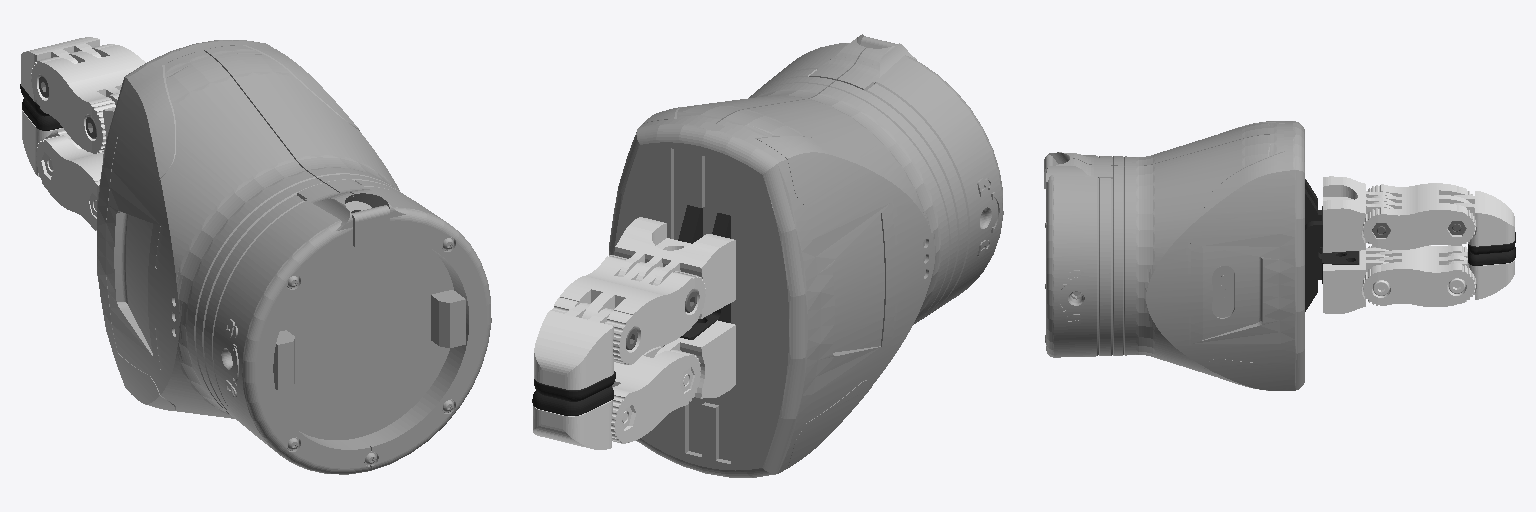
--- Facts derived from the render (not from the file) ---
The picture shows the robot from 3 angles, left to right: view 1: azimuth 30°, elevation 25°; view 2: azimuth 150°, elevation 25°; view 3: azimuth 270°, elevation 25°; orthographic projection.
Robot: ur3e_egh80 — 15 links, 14 joints (6 revolute, 2 prismatic, 6 fixed); root link world; default pose: every joint at zero.
Visible links, largest first — view 1: schunk_egh80_link, dedo_esq, dedo_dir; view 2: schunk_egh80_link, dedo_esq, dedo_dir; view 3: schunk_egh80_link, dedo_esq, dedo_dir.
Boxes of the visible links, <box> form: schunk_egh80_link: <box>97,40,491,474</box>; dedo_esq: <box>20,37,145,157</box>; dedo_dir: <box>22,98,103,230</box>; schunk_egh80_link: <box>609,34,1003,477</box>; dedo_esq: <box>534,217,735,401</box>; dedo_dir: <box>532,205,735,449</box>; schunk_egh80_link: <box>1044,121,1304,390</box>; dedo_esq: <box>1305,176,1515,311</box>; dedo_dir: <box>1305,179,1515,313</box>.
Size in the robot's own frame: 0.087 by 0.1994 by 0.1139 metres.
Meshes: 15 distinct files referenced, 12 mesh visuals loaded (7 Collada DAE); not drawn: 8 (reference not matched to a file when rendering).

URDF robot description (ur3e_egh80):
<?xml version="1.0" ?>
<!-- =================================================================================== -->
<!-- |    This document was autogenerated by xacro from ur3e_egh80.urdf.xacro          | -->
<!-- |    EDITING THIS FILE BY HAND IS NOT RECOMMENDED                                 | -->
<!-- =================================================================================== -->
<robot name="ur3e_egh80">
  <gazebo>
    <plugin filename="libgazebo_ros_control.so" name="ros_control">
      <!--robotNamespace>/</robotNamespace-->
      <!--robotSimType>gazebo_ros_control/DefaultRobotHWSim</robotSimType-->
    </plugin>
    <!--
    <plugin name="gazebo_ros_power_monitor_controller" filename="libgazebo_ros_power_monitor.so">
      <alwaysOn>true</alwaysOn>
      <updateRate>1.0</updateRate>
      <timeout>5</timeout>
      <powerStateTopic>power_state</powerStateTopic>
      <powerStateRate>10.0</powerStateRate>
      <fullChargeCapacity>87.78</fullChargeCapacity>     
      <dischargeRate>-474</dischargeRate>
      <chargeRate>525</chargeRate>
      <dischargeVoltage>15.52</dischargeVoltage>
      <chargeVoltage>16.41</chargeVoltage>
    </plugin>
-->
  </gazebo>
  <!-- measured from model "0.027"-->
  <!-- measured from model "0.027"-->
  <!--valores obtidos do Onshape, podem estar incorretos-->
  <!--xacro:property name="shoulder_height" value="0.094950" /-->
  <!--xacro:property name="upper_arm_length" value="0.243550" /-->
  <!--xacro:property name="forearm_length" value="0.2132" /-->
  <!--xacro:property name="wrist_1_length" value="0.01595" /-->
  <!--xacro:property name="wrist_2_length" value="0.08535" /-->
  <!--xacro:property name="wrist_3_length" value="0.0921" /-->
  <!--valores obtidos do Onshape, podem estar incorretos-->
  <!--<xacro:property name="shoulder_height" value="0.094950" /> -->
  <!--<xacro:property name="shoulder_offset" value="0.13585" /> -->
  <!-- shoulder_offset - elbow_offset + wrist_1_length = 0.10915 -->
  <!--<xacro:property name="upper_arm_length" value="0.42500" /> -->
  <!--<xacro:property name="elbow_offset" value="0.1197" /> -->
  <!-- CAD measured -->
  <!--<xacro:property name="forearm_length" value="0.39225" /> -->
  <!--<xacro:property name="wrist_1_length" value="0.093" />  -->
  <!-- CAD measured -->
  <!--<xacro:property name="wrist_2_length" value="0.09465" /> -->
  <!-- In CAD this distance is 0.930, but in the spec it is 0.09465 -->
  <!--<xacro:property name="wrist_3_length" value="0.0823" />-->
  <!-- manually measured -->
    <link name="world"/>
  <joint name="world_joint" type="fixed">
    <parent link="world"/>
    <child link="base_link"/>
    <origin rpy="0.0 0.0 0.0" xyz="0.0 0.0 0.0"/>
  </joint>
  <link name="base_link">
    <visual>
      <geometry>
        <mesh filename="package://robot_description/meshes/ur3e/visual/base.dae"/>
      </geometry>
      <material name="LightGrey">
        <color rgba="0.7 0.7 0.7 1.0"/>
      </material>
    </visual>
    <collision>
      <geometry>
        <mesh filename="package://robot_description/meshes/ur3e/collision/base.stl"/>
      </geometry>
    </collision>
    <inertial>
      <mass value="2.0"/>
      <origin rpy="0 0 0" xyz="0.0 0.0 0.0"/>
      <inertia ixx="0.0030531654454" ixy="0.0" ixz="0.0" iyy="0.0030531654454" iyz="0.0" izz="0.005625"/>
    </inertial>
  </link>
  <joint name="shoulder_pan_joint" type="revolute">
    <parent link="base_link"/>
    <child link="shoulder_link"/>
    <origin rpy="0.0 0.0 0.0" xyz="0.0 0.0 0.152"/>
    <axis xyz="0 0 1"/>
    <limit effort="56.0" lower="-3.141592653589793" upper="3.141592653589793" velocity="1.57079"/>
    <dynamics damping="0.0" friction="0.0"/>
  </joint>
  <link name="shoulder_link">
    <visual>
      <geometry>
        <mesh filename="package://robot_description/meshes/ur3e/visual/shoulder.dae"/>
      </geometry>
      <material name="LightGrey">
        <color rgba="0.7 0.7 0.7 1.0"/>
      </material>
    </visual>
    <collision>
      <geometry>
        <mesh filename="package://robot_description/meshes/ur3e/collision/shoulder.stl"/>
      </geometry>
    </collision>
    <inertial>
      <mass value="1.98"/>
      <origin rpy="0 0 0" xyz="0.0 0.0 0.0"/>
      <inertia ixx="0.006893010842794559" ixy="0.0" ixz="0.0" iyy="0.006893010842794559" iyz="0.0" izz="0.00556875"/>
    </inertial>
  </link>
  <joint name="shoulder_lift_joint" type="revolute">
    <parent link="shoulder_link"/>
    <child link="upper_arm_link"/>
    <origin rpy="0.0 1.5707963267948966 0.0" xyz="0.0 0.12 0.0"/>
    <!--<origin xyz="0.0 -0.06260 0.05690" rpy="${pi / 2.0} 0.0  0.0" />-->
    <axis xyz="0 1 0"/>
    <limit effort="56.0" lower="-3.141592653589793" upper="3.141592653589793" velocity="1.57079"/>
    <dynamics damping="0.0" friction="0.0"/>
  </joint>
  <link name="upper_arm_link">
    <visual>
      <geometry>
        <mesh filename="package://robot_description/meshes/ur3e/visual/upperarm.dae"/>
      </geometry>
      <material name="LightGrey">
        <color rgba="0.7 0.7 0.7 1.0"/>
      </material>
    </visual>
    <collision>
      <geometry>
        <mesh filename="package://robot_description/meshes/ur3e/collision/upperarm.stl"/>
      </geometry>
    </collision>
    <inertial>
      <mass value="3.4445"/>
      <origin rpy="0 0 0" xyz="0.0 0.0 0.28"/>
      <inertia ixx="0.022165039346584883" ixy="0.0" ixz="0.0" iyy="0.022165039346584883" iyz="0.0" izz="0.00968765625"/>
    </inertial>
  </link>
  <joint name="elbow_joint" type="revolute">
    <parent link="upper_arm_link"/>
    <child link="forearm_link"/>
    <origin rpy="0.0 0.0 0.0" xyz="0.0 -0.093 0.24355"/>
    <!--<origin xyz="0.0 0.243550 -0.010541" rpy="0.0 ${pi / 2.0} 0.0"/>-->
    <axis xyz="0 1 0"/>
    <limit effort="28.0" lower="-3.141592653589793" upper="3.141592653589793" velocity="1.57079"/>
    <dynamics damping="0.0" friction="0.0"/>
  </joint>
  <link name="forearm_link">
    <visual>
      <geometry>
        <mesh filename="package://robot_description/meshes/ur3e/visual/forearm.dae"/>
      </geometry>
      <material name="LightGrey">
        <color rgba="0.7 0.7 0.7 1.0"/>
      </material>
    </visual>
    <collision>
      <geometry>
        <mesh filename="package://robot_description/meshes/ur3e/collision/forearm.stl"/>
      </geometry>
    </collision>
    <inertial>
      <mass value="1.437"/>
      <origin rpy="0 0 0" xyz="0.0 0.0 0.25"/>
      <inertia ixx="0.0074639235044294035" ixy="0.0" ixz="0.0" iyy="0.0074639235044294035" iyz="0.0" izz="0.0040415625"/>
    </inertial>
  </link>
  <joint name="wrist_1_joint" type="revolute">
    <parent link="forearm_link"/>
    <child link="wrist_1_link"/>
    <origin rpy="0.0 1.5707963267948966 0.0" xyz="0.0 0.0 0.2132"/>
    <axis xyz="0 1 0"/>
    <limit effort="12.0" lower="-3.141592653589793" upper="3.141592653589793" velocity="3.1415"/>
    <dynamics damping="0.0" friction="0.0"/>
  </joint>
  <link name="wrist_1_link">
    <visual>
      <geometry>
        <mesh filename="package://robot_description/meshes/ur3e/visual/wrist1.dae"/>
      </geometry>
      <material name="LightGrey">
        <color rgba="0.7 0.7 0.7 1.0"/>
      </material>
    </visual>
    <collision>
      <geometry>
        <mesh filename="package://robot_description/meshes/ur3e/collision/wrist1.stl"/>
      </geometry>
    </collision>
    <inertial>
      <mass value="0.871"/>
      <origin rpy="0 0 0" xyz="0.0 0.0 0.0"/>
      <inertia ixx="0.0022700428419824997" ixy="0.0" ixz="0.0" iyy="0.0022700428419824997" iyz="0.0" izz="0.0024496874999999996"/>
    </inertial>
  </link>
  <joint name="wrist_2_joint" type="revolute">
    <parent link="wrist_1_link"/>
    <child link="wrist_2_link"/>
    <origin rpy="0.0 0.0 0.0" xyz="0.0 0.10405 0.0"/>
    <axis xyz="0 0 1"/>
    <limit effort="12.0" lower="-3.141592653589793" upper="3.141592653589793" velocity="3.1415"/>
    <dynamics damping="0.0" friction="0.0"/>
  </joint>
  <link name="wrist_2_link">
    <visual>
      <geometry>
        <mesh filename="package://robot_description/meshes/ur3e/visual/wrist2.dae"/>
      </geometry>
      <material name="LightGrey">
        <color rgba="0.7 0.7 0.7 1.0"/>
      </material>
    </visual>
    <collision>
      <geometry>
        <mesh filename="package://robot_description/meshes/ur3e/collision/wrist2.stl"/>
      </geometry>
    </collision>
    <inertial>
      <mass value="0.805"/>
      <origin rpy="0 0 0" xyz="0.0 0.0 0.0"/>
      <inertia ixx="0.0020980304107875002" ixy="0.0" ixz="0.0" iyy="0.0020980304107875002" iyz="0.0" izz="0.0022640625"/>
    </inertial>
  </link>
  <joint name="wrist_3_joint" type="revolute">
    <parent link="wrist_2_link"/>
    <child link="wrist_3_link"/>
    <origin rpy="0.0 0.0 0.0" xyz="0.0 0.0 0.08535"/>
    <axis xyz="0 1 0"/>
    <limit effort="12.0" lower="-3.141592653589793" upper="3.141592653589793" velocity="3.1415"/>
    <dynamics damping="0.0" friction="0.0"/>
  </joint>
  <link name="wrist_3_link">
    <visual>
      <geometry>
        <mesh filename="package://robot_description/meshes/ur3e/visual/wrist3.dae"/>
      </geometry>
      <material name="LightGrey">
        <color rgba="0.7 0.7 0.7 1.0"/>
      </material>
    </visual>
    <collision>
      <geometry>
        <mesh filename="package://robot_description/meshes/ur3e/collision/wrist3.stl"/>
      </geometry>
    </collision>
    <inertial>
      <mass value="0.805"/>
      <origin rpy="0 0 0" xyz="0.0 0.0 0.0"/>
      <inertia ixx="0.00031341320796800004" ixy="0.0" ixz="0.0" iyy="0.00031341320796800004" iyz="0.0" izz="0.00041216"/>
    </inertial>
  </link>
  <joint name="ee_fixed_joint" type="fixed">
    <parent link="wrist_3_link"/>
    <child link="ee_link"/>
    <origin rpy="0.0 0.0 1.5707963267948966" xyz="0.0 0.0921 0.0"/>
  </joint>
  <link name="ee_link">
    <collision>
      <geometry>
        <box size="0.01 0.01 0.01"/>
      </geometry>
      <origin rpy="0 0 0" xyz="-0.01 0 0"/>
    </collision>
  </link>
  <!-- ROS base_link to UR 'Base' Coordinates transform -->
  <link name="base"/>
  <joint name="base_link-base_fixed_joint" type="fixed">
    <!-- NOTE: this rotation is only needed as long as base_link itself is
                 not corrected wrt the real robot (ie: rotated over 180
                 degrees)
      -->
    <origin rpy="0 0 -3.141592653589793" xyz="0 0 0"/>
    <parent link="base_link"/>
    <child link="base"/>
  </joint>
  <!-- Frame coincident with all-zeros TCP on UR controller -->
  <link name="tool0"/>
  <joint name="wrist_3_link-tool0_fixed_joint" type="fixed">
    <origin rpy="-1.5707963267948966 0 0" xyz="0 0.0921 0"/>
    <parent link="wrist_3_link"/>
    <child link="tool0"/>
  </joint>
  <!-- Schunk EGH80 Coupler -->
  <!--  -->
  <!--  -->
  <link name="conector_tcp">
    <visual>
      <origin rpy="0 -0 0" xyz="0 0 0"/>
      <geometry>
        <mesh filename="package://robot_description/meshes/conector_tcp.stl"/>
      </geometry>
      <material name="conector_tcp_material">
        <color rgba="0.50196078431372548323 0.50196078431372548323 0.50196078431372548323 1.0"/>
      </material>
    </visual>
    <collision>
      <origin rpy="0 -0 0" xyz="0 0 0"/>
      <geometry>
        <mesh filename="package://robot_description/meshes/conector_tcp.stl"/>
      </geometry>
    </collision>
    <inertial>
      <origin rpy="0 0 0" xyz="-3.517291045154929735e-05 -3.2279048367335561479e-13 0.0037918602136445983021"/>
      <mass value="0.17533775221511888054"/>
      <inertia ixx="4.7634466232920521231e-05" ixy="-1.9565925084430388539e-07" ixz="-1.9723444917313040303e-07" iyy="6.3135044798116074396e-05" iyz="1.9739250304519301961e-16" izz="0.00010757461602015991483"/>
    </inertial>
  </link>
  <joint name="conector_tcp_joint" type="fixed">
    <origin rpy="0.0 0.0 -1.5707963267948966" xyz="0.0 0.0 0.0"/>
    <parent link="tool0"/>
    <child link="conector_tcp"/>
  </joint>
  <gazebo reference="conector_tcp">
    <mu1>0.9</mu1>
    <mu2>0.9</mu2>
  </gazebo>
  <!-- Gripper-->
  <link name="schunk_egh80_link">
    <visual>
      <origin rpy="-1.3439035240356334011 -0 0" xyz="0.0 0.036423269171482079709 0.075503655548620457472"/>
      <geometry>
        <mesh filename="package://robot_description/meshes/schunk_egh80/visual/etiqueta.dae"/>
      </geometry>
      <material name="etiqueta_material">
        <color rgba="0.69019607843137253944 0.69019607843137253944 0.69019607843137253944 1.0"/>
      </material>
    </visual>
    <collision>
      <origin rpy="-1.3439035240356334011 -0 0" xyz="0.0 0.036423269171482079709 0.075503655548620457472"/>
      <geometry>
        <mesh filename="package://robot_description/meshes/schunk_egh80/collision/etiqueta.stl"/>
      </geometry>
    </collision>
    <visual>
      <origin rpy="2.9837243786801082024e-16 -0 0" xyz="0.0 0.001000000000000025608 -3.8353651851674719353e-17"/>
      <geometry>
        <mesh filename="package://robot_description/meshes/schunk_egh80/visual/egh_80.dae"/>
      </geometry>
      <material name="egh80_material">
        <color rgba="0.69019607843137253944 0.69019607843137253944 0.69019607843137253944 1.0"/>
      </material>
    </visual>
    <collision>
      <origin rpy="2.9837243786801082024e-16 -0 0" xyz="0.0 0.001000000000000025608 -3.8353651851674719353e-17"/>
      <geometry>
        <mesh filename="package://robot_description/meshes/schunk_egh80/collision/egh_80.stl"/>
      </geometry>
    </collision>
    <inertial>
      <origin rpy="0 0 0" xyz="0.0 0.00099144218198634042477 0.048851498325995605654"/>
      <mass value="0.8940741992945057115"/>
      <inertia ixx="0.00144341178416013214" ixy="-1.0815141178448789754e-07" ixz="-4.1196228146560501818e-07" iyy="0.0016329060271123971206" iyz="2.3017375574695289924e-07" izz="0.00088273402479363332826"/>
    </inertial>
  </link>
  <!--Right Finger-->
  <link name="dedo_dir">
    <visual>
      <origin rpy="3.141592653589793116 0 -3.141592653589793116" xyz="0.0023249999999999781258 0.08007769391666488823 0.031950000000000013112"/>
      <geometry>
        <mesh filename="package://robot_description/meshes/schunk_egh80/visual/almofada.dae"/>
      </geometry>
    </visual>
    <collision>
      <origin rpy="3.141592653589793116 5.6106676794315656464e-47 -3.141592653589793116" xyz="0.0023249999999999781258 0.08007769391666488823 0.031950000000000013112"/>
      <geometry>
        <mesh filename="package://robot_description/meshes/schunk_egh80/collision/almofada.stl"/>
      </geometry>
    </collision>
    <visual>
      <origin rpy="-9.244463733061490901e-33 1.570796326794896558 0" xyz="0.0018250000000000375297 0.033299999999999774225 0.040700000000000007006"/>
      <geometry>
        <mesh filename="package://robot_description/meshes/schunk_egh80/visual/falanginha.dae"/>
      </geometry>
      <material name="falanginha_material">
        <color rgba="0.89803921568627453897 0.89803921568627453897 0.89803921568627453897 1.0"/>
      </material>
    </visual>
    <collision>
      <origin rpy="-9.244463733061490901e-33 1.570796326794896558 0" xyz="0.0018250000000000375297 0.033299999999999774225 0.040700000000000007006"/>
      <geometry>
        <mesh filename="package://robot_description/meshes/schunk_egh80/collision/falanginha.stl"/>
      </geometry>
    </collision>
    <visual>
      <origin rpy="-9.244463733061490901e-33 1.570796326794896336 0" xyz="0.0026249999999999433509 0.033299999999999801981 0.040700000000000007006"/>
      <geometry>
        <mesh filename="package://robot_description/meshes/schunk_egh80/visual/falange.dae"/>
      </geometry>
      <material name="falange_material">
        <color rgba="0.89803921568627453897 0.89803921568627453897 0.89803921568627453897 1.0"/>
      </material>
    </visual>
    <collision>
      <origin rpy="-9.244463733061490901e-33 1.570796326794896336 0" xyz="0.0026249999999999433509 0.033299999999999801981 0.040700000000000007006"/>
      <geometry>
        <mesh filename="package://robot_description/meshes/schunk_egh80/collision/falange.stl"/>
      </geometry>
    </collision>
    <visual>
      <origin rpy="-9.244463733061490901e-33 1.570796326794896558 0" xyz="0.0023249999999999772585 0.065299999999999774891 0.040700000000000007006"/>
      <geometry>
        <mesh filename="package://robot_description/meshes/schunk_egh80/visual/falangeta.dae"/>
      </geometry>
      <material name="falangeta_material">
        <color rgba="0.89803921568627453897 0.89803921568627453897 0.89803921568627453897 1.0"/>
      </material>
    </visual>
    <collision>
      <origin rpy="-9.244463733061490901e-33 1.570796326794896558 0" xyz="0.0023249999999999772585 0.065299999999999774891 0.040700000000000007006"/>
      <geometry>
        <mesh filename="package://robot_description/meshes/schunk_egh80/collision/falangeta.stl"/>
      </geometry>
    </collision>
    <visual>
      <origin rpy="-9.244463733061490901e-33 1.570796326794896558 0" xyz="0.0026250000000000014641 0.016000000000000014211 0.041500000000000009104"/>
      <geometry>
        <mesh filename="package://robot_description/meshes/schunk_egh80/visual/guia_dedo.dae"/>
      </geometry>
      <material name="guia_dedo_material">
        <color rgba="0.2313725490196078538 0.2313725490196078538 0.2313725490196078538 1.0"/>
      </material>
    </visual>
    <collision>
      <origin rpy="-9.244463733061490901e-33 1.570796326794896558 0" xyz="0.0026250000000000014641 0.016000000000000014211 0.041500000000000009104"/>
      <geometry>
        <mesh filename="package://robot_description/meshes/schunk_egh80/collision/guia_dedo.stl"/>
      </geometry>
    </collision>
    <inertial>
      <origin rpy="0 0 0" xyz="0.0029825365929367041173 0.0278015996536302816 0.03487164697684287662"/>
      <mass value="0.074377094721990874571"/>
      <inertia ixx="5.2720380310400654245e-05" ixy="1.3456724147132514789e-06" ixz="5.2493950544052393425e-07" iyy="1.0703934703923688915e-05" iyz="-7.363436738255669011e-06" izz="4.9495184444868198551e-05"/>
    </inertial>
  </link>
  <!-- Left Finger link-->
  <link name="dedo_esq">
    <visual>
      <origin rpy="3.141592653589793116 -0 -3.141592653589793116" xyz="0.0023249999999999668501 0.080077693916664902107 0.031949999999999985356"/>
      <geometry>
        <mesh filename="package://robot_description/meshes/schunk_egh80/visual/almofada.dae"/>
      </geometry>
    </visual>
    <collision>
      <origin rpy="3.141592653589793116 -0 -3.141592653589793116" xyz="0.0023249999999999668501 0.080077693916664902107 0.031949999999999985356"/>
      <geometry>
        <mesh filename="package://robot_description/meshes/schunk_egh80/collision/almofada.stl"/>
      </geometry>
    </collision>
    <visual>
      <origin rpy="0 1.570796326794896558 0" xyz="0.0018250000000000266877 0.033299999999999760347 0.040700000000000027822"/>
      <geometry>
        <mesh filename="package://robot_description/meshes/schunk_egh80/visual/falanginha.dae"/>
      </geometry>
    </visual>
    <collision>
      <origin rpy="0 1.570796326794896558 0" xyz="0.0018250000000000266877 0.033299999999999760347 0.040700000000000027822"/>
      <geometry>
        <mesh filename="package://robot_description/meshes/schunk_egh80/collision/falanginha.stl"/>
      </geometry>
    </collision>
    <visual>
      <origin rpy="0 1.570796326794896336 0" xyz="0.0026249999999999372793 0.033299999999999760347 0.040700000000000013944"/>
      <geometry>
        <mesh filename="package://robot_description/meshes/schunk_egh80/visual/falange.dae"/>
      </geometry>
    </visual>
    <collision>
      <origin rpy="0 1.570796326794896336 0" xyz="0.0026249999999999372793 0.033299999999999760347 0.040700000000000013944"/>
      <geometry>
        <mesh filename="package://robot_description/meshes/schunk_egh80/collision/falange.stl"/>
      </geometry>
    </collision>
    <visual>
      <origin rpy="0 1.570796326794896558 0" xyz="0.0023249999999999707533 0.065299999999999677747 0.040700000000000013944"/>
      <geometry>
        <mesh filename="package://robot_description/meshes/schunk_egh80/visual/falangeta.dae"/>
      </geometry>
    </visual>
    <collision>
      <origin rpy="0 1.570796326794896558 0" xyz="0.0023249999999999707533 0.065299999999999677747 0.040700000000000013944"/>
      <geometry>
        <mesh filename="package://robot_description/meshes/schunk_egh80/collision/falangeta.stl"/>
      </geometry>
    </collision>
    <visual>
      <origin rpy="0 1.570796326794896558 0" xyz="0.0026250000000000014641 0.016000000000000000333 0.041500000000000002165"/>
      <geometry>
        <mesh filename="package://robot_description/meshes/schunk_egh80/visual/guia_dedo.dae"/>
      </geometry>
    </visual>
    <collision>
      <origin rpy="0 1.570796326794896558 0" xyz="0.0026250000000000014641 0.016000000000000000333 0.041500000000000002165"/>
      <geometry>
        <mesh filename="package://robot_description/meshes/schunk_egh80/collision/guia_dedo.stl"/>
      </geometry>
    </collision>
    <inertial>
      <origin rpy="0 0 0" xyz="0.0029825365929366997805 0.027801599653630260783 0.03487164697684287662"/>
      <mass value="0.074377094721990874571"/>
      <inertia ixx="5.272038031040062714e-05" ixy="1.3456724147132578317e-06" ixz="5.2493950544052605183e-07" iyy="1.0703934703923699079e-05" iyz="-7.3634367382556766343e-06" izz="4.949518444486816467e-05"/>
    </inertial>
  </link>
  <joint name="gripper_base_joint" type="fixed">
    <origin rpy="0 0 1.570796326794896558" xyz="0 0 0"/>
    <parent link="tool0"/>
    <child link="schunk_egh80_link"/>
    <axis xyz="0 0 1"/>
    <!-- <limit effort="1" velocity="20" lower="0.0050000000000000001041" upper="0.044999999999999998335"/>
            <dynamics damping="0" friction="0"/> -->
  </joint>
  <!-- Juntas dos dedos -->
  <joint name="dedo_dir_joint" type="prismatic">
    <origin rpy="1.570796326794896558 0 -1.570796326794896558" xyz="0.032500000000000028866 0.0036249999999999928113 0.10919999999999996376"/>
    <axis xyz="0 0 1"/>
    <limit accelerarion="0.1" effort="1" lower="0.0" upper="0.040" velocity="0.08"/>
    <joint_properties friction="0.0"/>
    <parent link="schunk_egh80_link"/>
    <child link="dedo_dir"/>
    <mimic joint="dedo_esq_joint" multiplier="1"/>
  </joint>
  <joint name="dedo_esq_joint" type="prismatic">
    <origin rpy="1.570796326794896558 0 1.570796326794896558" xyz="-0.022499999999999978351 -0.0016250000000000075148 0.10919999999999994988"/>
    <axis xyz="0 0 1"/>
    <limit accelerarion="0.1" effort="1" lower="0.0" upper="0.040" velocity="0.08"/>
    <joint_properties friction="0.0"/>
    <parent link="schunk_egh80_link"/>
    <child link="dedo_esq"/>
  </joint>
  <ros2_control name="FakeSystem" type="system">
    <hardware>
      <!-- By default, set up controllers for simulation. This won't work on real hardware -->
      <plugin>topic_based_ros2_control/TopicBasedSystem</plugin>
      <param name="joint_commands_topic">/isaac_joint_commands</param>
      <param name="joint_state_topic">/isaac_joint_states</param>
    </hardware>
    <joint name="shoulder_pan_joint">
      <command_interface name="position"/>
      <state_interface name="position">
        <param name="initial_value">0</param>
      </state_interface>
      <state_interface name="velocity"/>
    </joint>
    <joint name="shoulder_lift_joint">
      <command_interface name="position"/>
      <state_interface name="position">
        <param name="initial_value">0</param>
      </state_interface>
      <state_interface name="velocity"/>
    </joint>
    <joint name="elbow_joint">
      <command_interface name="position"/>
      <state_interface name="position">
        <param name="initial_value">0</param>
      </state_interface>
      <state_interface name="velocity"/>
    </joint>
    <joint name="wrist_1_joint">
      <command_interface name="position"/>
      <state_interface name="position">
        <param name="initial_value">0</param>
      </state_interface>
      <state_interface name="velocity"/>
    </joint>
    <joint name="wrist_2_joint">
      <command_interface name="position"/>
      <state_interface name="position">
        <param name="initial_value">0</param>
      </state_interface>
      <state_interface name="velocity"/>
    </joint>
    <joint name="wrist_3_joint">
      <command_interface name="position"/>
      <state_interface name="position">
        <param name="initial_value">0</param>
      </state_interface>
      <state_interface name="velocity"/>
    </joint>
    <joint name="dedo_esq_joint">
      <command_interface name="position"/>
      <state_interface name="position">
        <param name="initial_value">0</param>
      </state_interface>
      <state_interface name="velocity"/>
    </joint>
  </ros2_control>
</robot>
